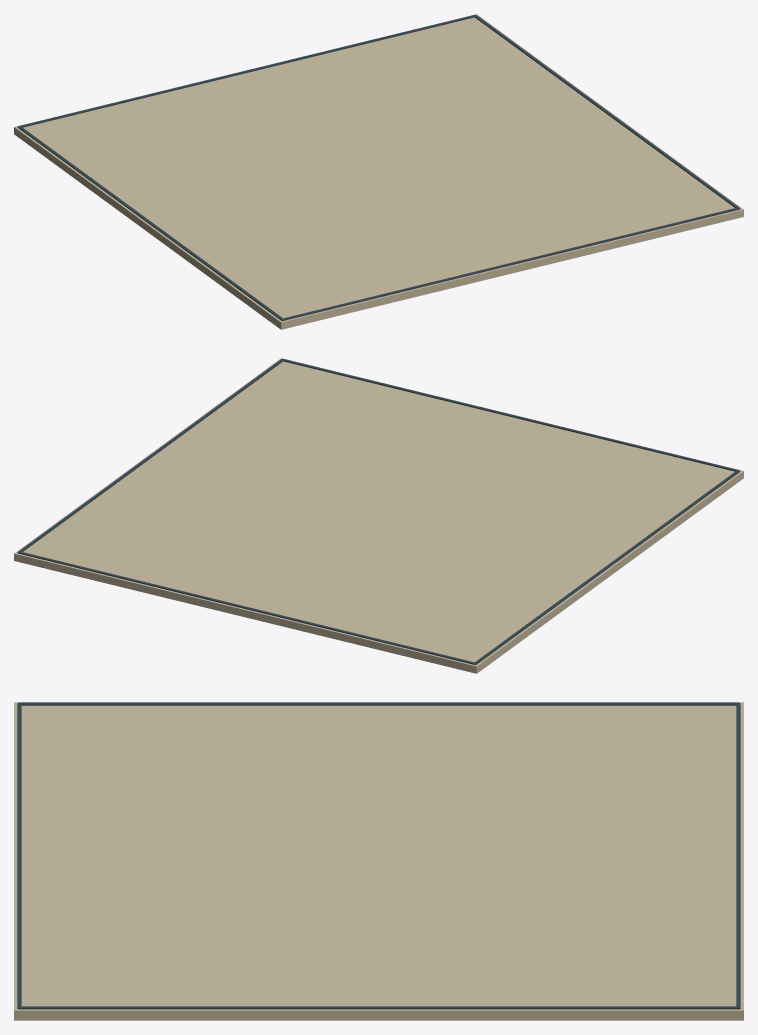
The model's file is ground-sand-low.glb.
The picture shows the model from 3 angles, top to bottom: view 1: azimuth 30°, elevation 25°; view 2: azimuth 150°, elevation 25°; view 3: azimuth 270°, elevation 25°; orthographic projection. The views are drawn at different scales.
Visible parts, largest first — view 1: asset_ground-sand__FP_Baked; view 2: asset_ground-sand__FP_Baked; view 3: asset_ground-sand__FP_Baked.
Boxes of the visible parts, box(x1,y1,x2,y2) form: asset_ground-sand__FP_Baked: box(14, 14, 743, 329); asset_ground-sand__FP_Baked: box(14, 358, 743, 673); asset_ground-sand__FP_Baked: box(14, 702, 743, 1020).
Bounding box in the file's own units: 4 × 0.068 × 4.
